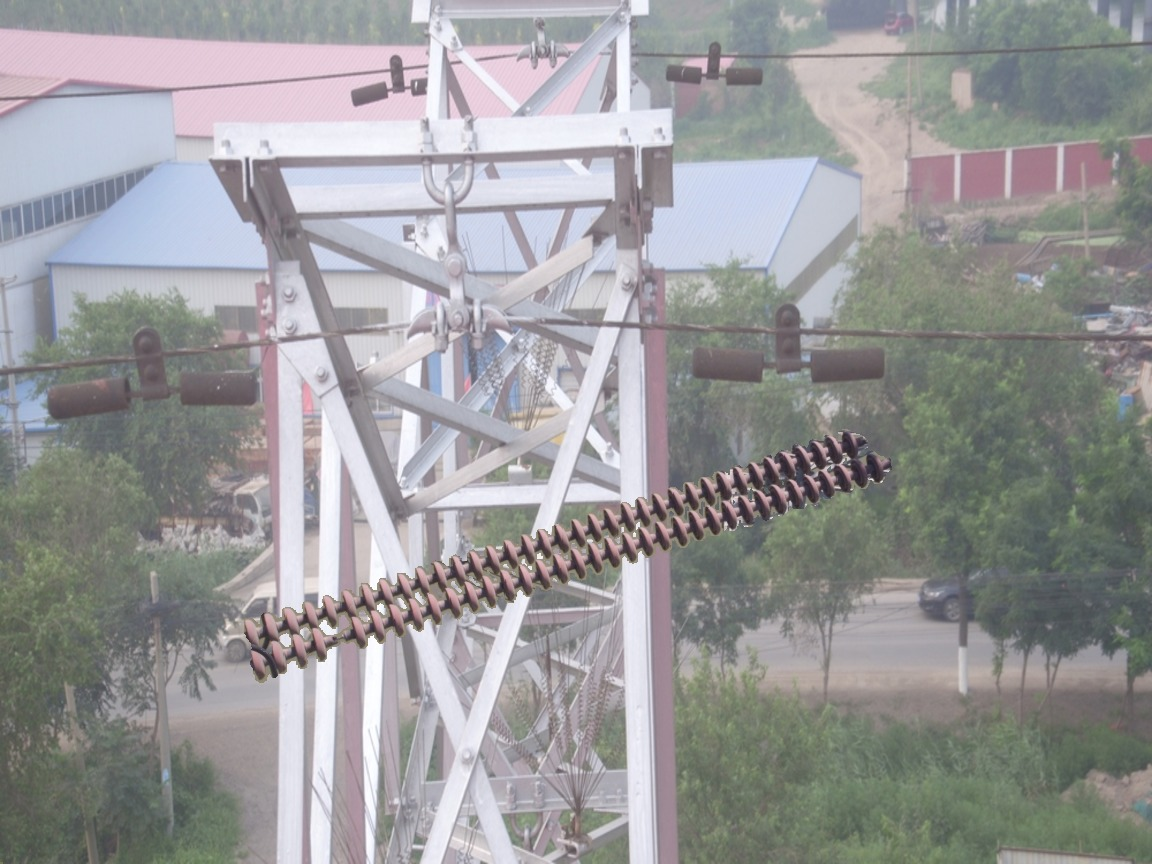defect: (306, 614, 374, 663)
